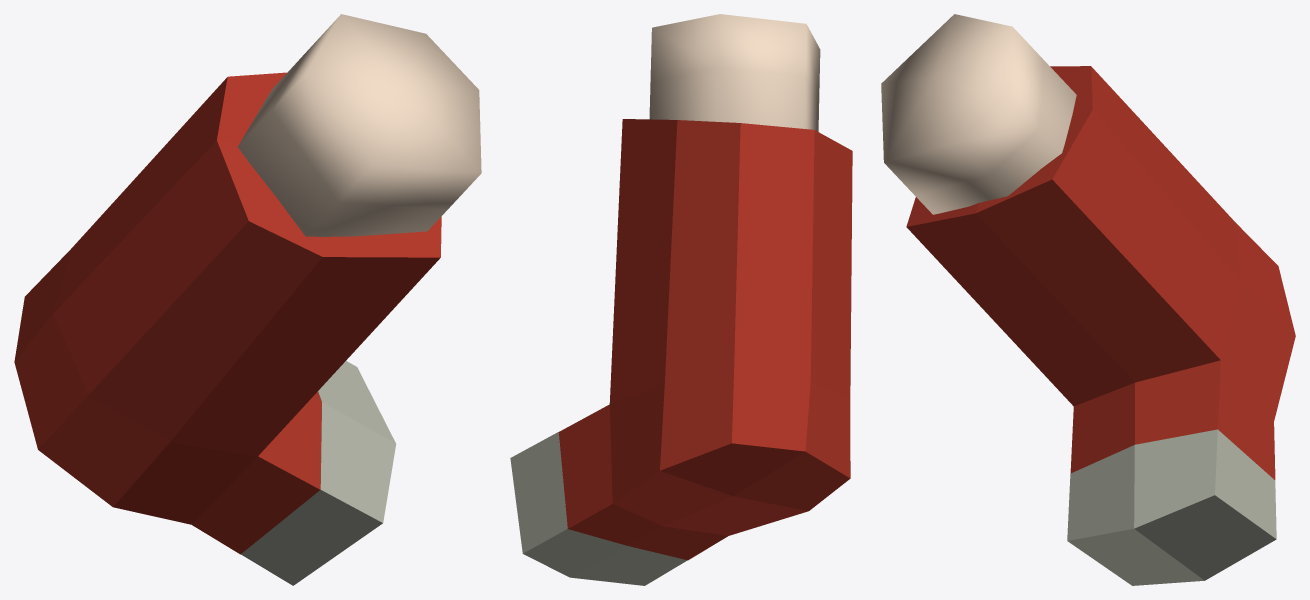
The model's file is Inhaler.fbx.
The picture shows the model from 3 angles, left to right: view 1: azimuth 30°, elevation 25°; view 2: azimuth 150°, elevation 25°; view 3: azimuth 270°, elevation 25°; orthographic projection. The views are drawn at different scales.
Visible parts, largest first — view 1: Body, Cartridge, Cap; view 2: Body, Cartridge, Cap; view 3: Body, Cartridge, Cap.
Part boxes in pixels (<box>): Body: <box>14,72,441,554</box>; Cartridge: <box>238,14,481,236</box>; Cap: <box>241,361,396,585</box>; Body: <box>558,119,852,560</box>; Cartridge: <box>649,14,820,131</box>; Cap: <box>510,432,687,585</box>; Body: <box>906,66,1295,479</box>; Cartridge: <box>881,14,1076,214</box>; Cap: <box>1067,429,1276,585</box>.
Size of the model in its own units: 18.19 by 16 by 26.66.
